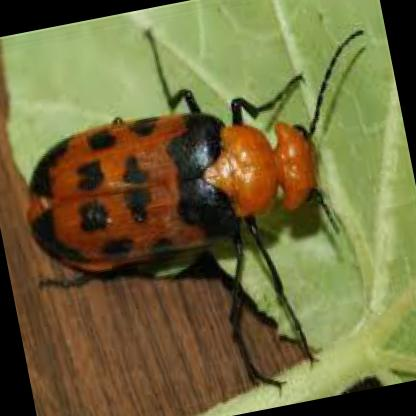blister beetle: (25, 27, 359, 321)
